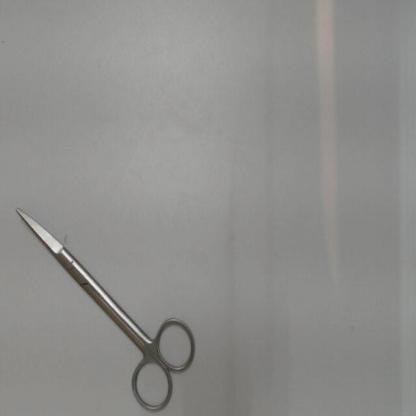Curved Mayo Scissors: (13, 202, 204, 415)
